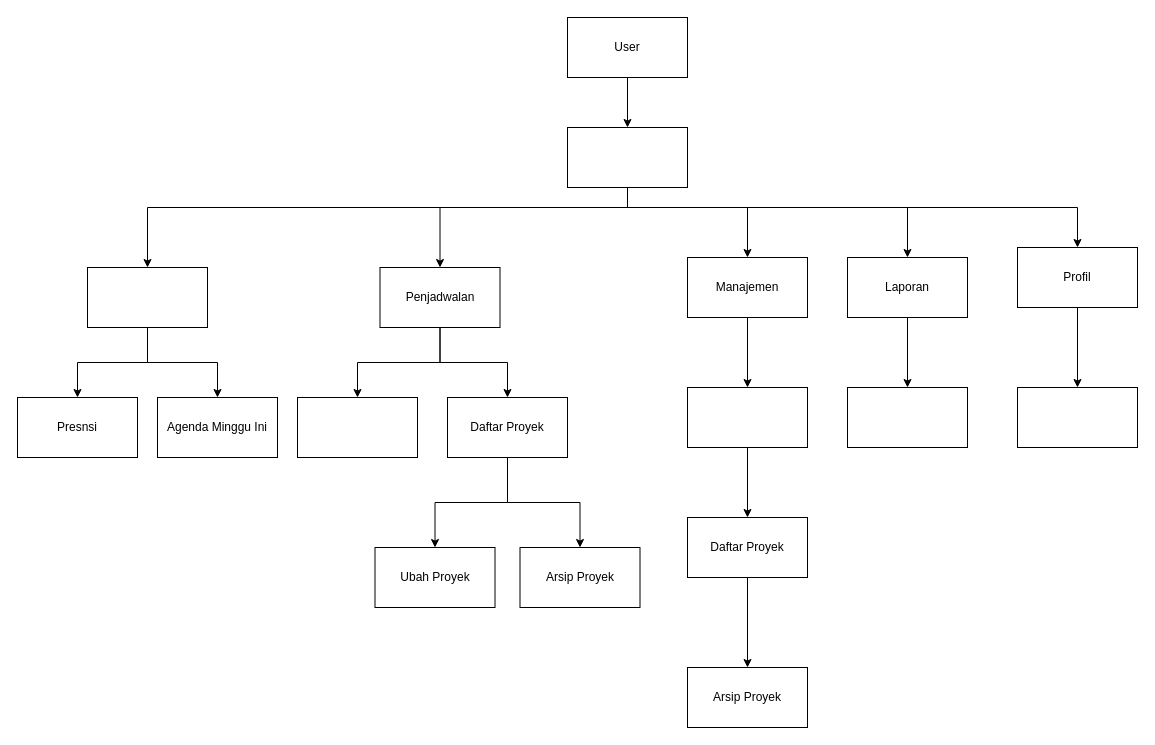
This 1155x745 diagram has some shape labels left out. The box of each missing label's shape, as (x1, y1, x2, y2) in pixels:
Cetak Laporan: (846, 386, 968, 448)
Dashboard: (86, 266, 208, 328)
Login: (566, 126, 688, 188)
Manajemen Proyek: (686, 386, 808, 448)
Tambah Proyek: (296, 396, 418, 458)
Ubah Sandi: (1016, 386, 1138, 448)
